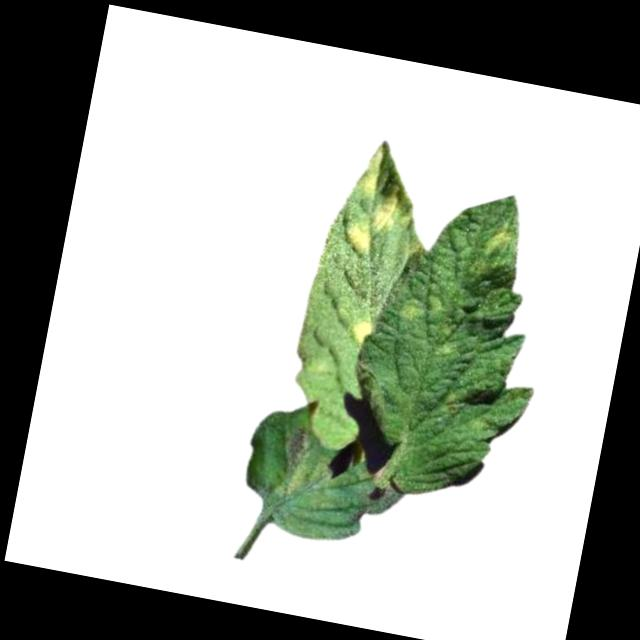Leaf_Mold: (339, 134, 412, 264), (272, 425, 332, 506), (484, 229, 517, 260), (351, 317, 378, 348), (401, 302, 427, 323)
